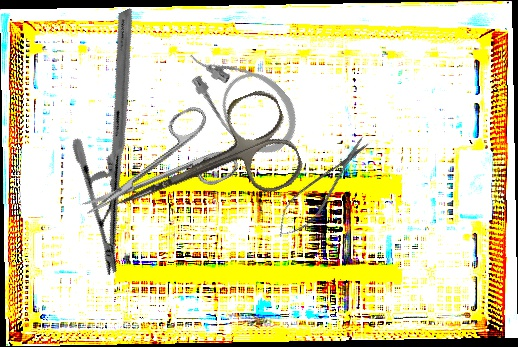Cannula: (173, 24, 311, 168)
Iris Scissors: (97, 85, 309, 248), (65, 99, 242, 243)
Micro Scissor: (267, 128, 379, 247)
Needle Holder: (4, 7, 233, 277)
